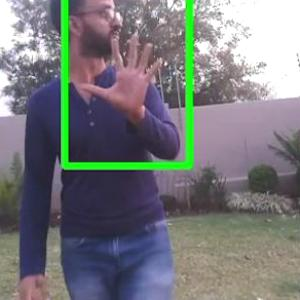follow_hand: (77, 30, 165, 115)
